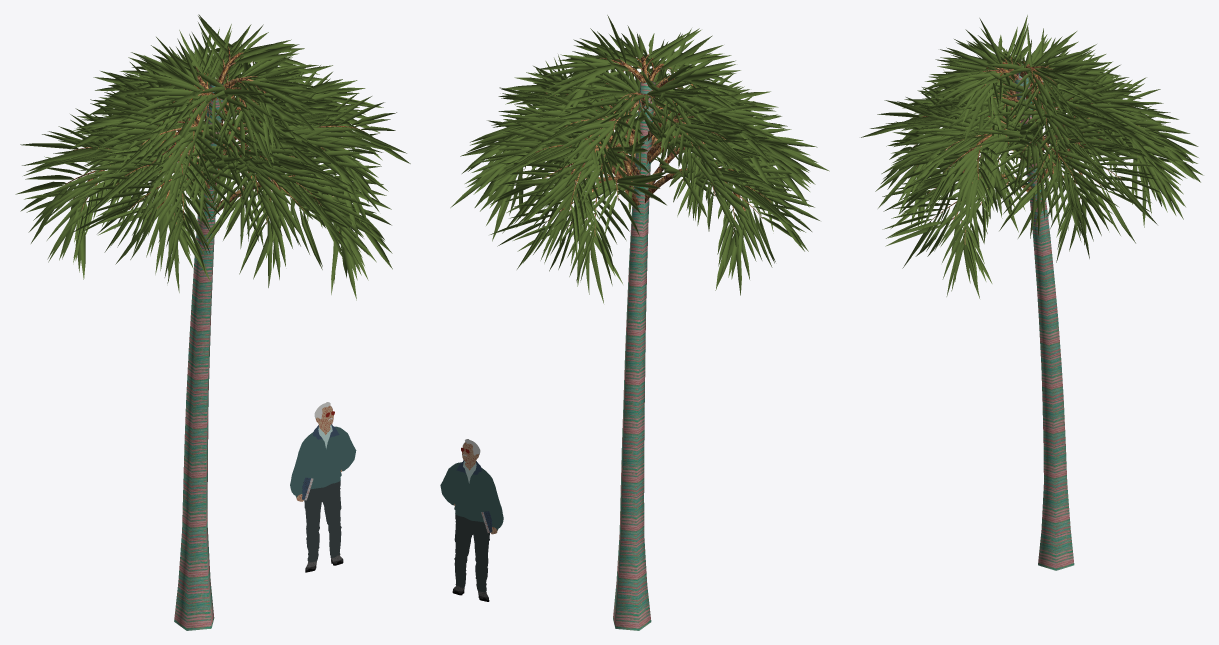
The picture shows the model from 3 angles, left to right: view 1: azimuth 30°, elevation 25°; view 2: azimuth 150°, elevation 25°; view 3: azimuth 270°, elevation 25°; orthographic projection. The views are drawn at different scales.
Parts seen in each view (by area): view 1: stemslevel0, Steve (×2); view 2: stemslevel0, Steve (×2); view 3: stemslevel0.
Part boxes in pixels (left/top/right/bottom): stemslevel0: left=174, top=84, right=223, bottom=630; Steve (×2): left=290, top=426, right=356, bottom=562; stemslevel0: left=613, top=81, right=655, bottom=630; Steve (×2): left=440, top=462, right=503, bottom=592; stemslevel0: left=1014, top=72, right=1074, bottom=570.
Size of the model in its own units: 146 by 142 by 239.
Materials: 16 (3 with a texture image).
